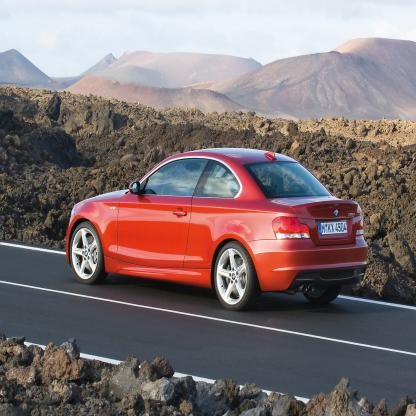Vehicle: (65, 145, 371, 309)
